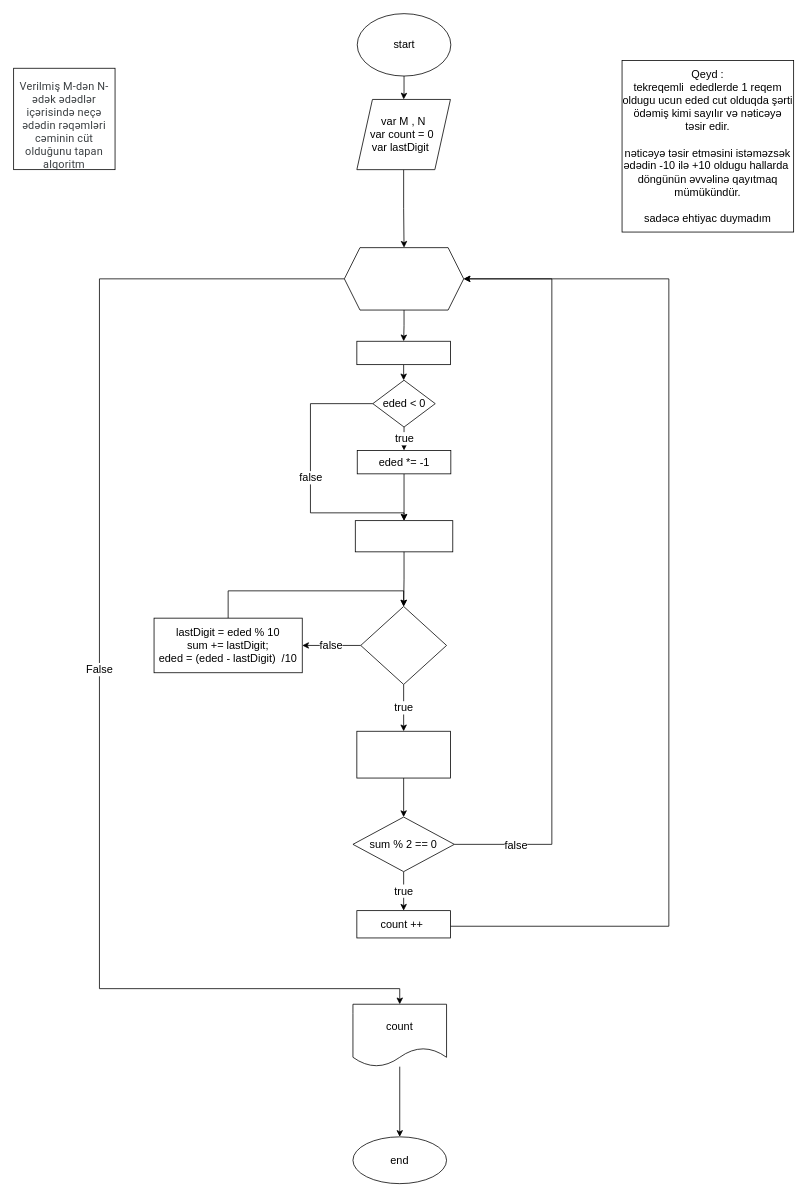
Image size: 807x1197. Some labels were removed from this diagram. The shapes that lost their labels are listed below. From the top down, each one's centre as x and y in pixels, then its label:
the point at 404,278: var I = M; I < N; I++
the point at 403,352: var eded = I
the point at 404,536: var sum = 0
the point at 403,645: eded >=0 && eded < 10
the point at 403,754: sum += eded
